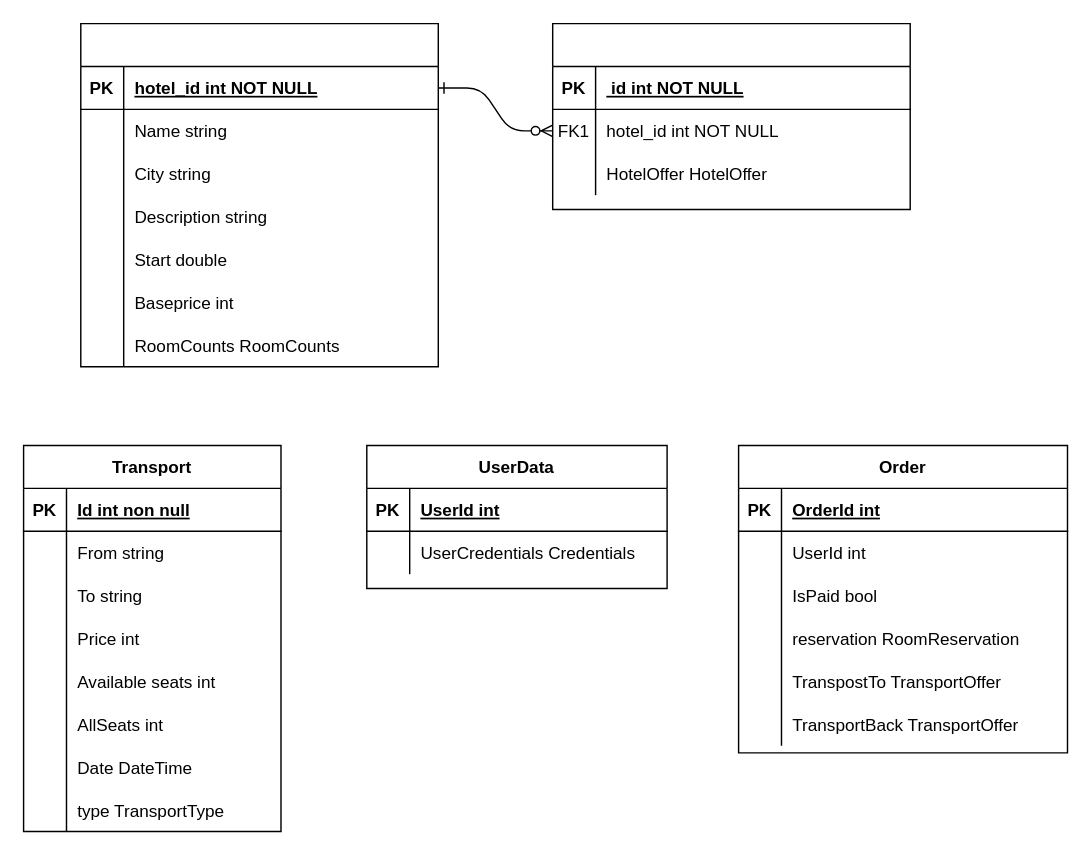
The diagram is 1091 pixels wide and 855 high, and some of its shapes have lost their labels. Here are the shapes that lost their labels. From the top down, the box of each, then its label:
(551, 22, 910, 209): RoomReservation
(79, 22, 438, 367): Hotels
